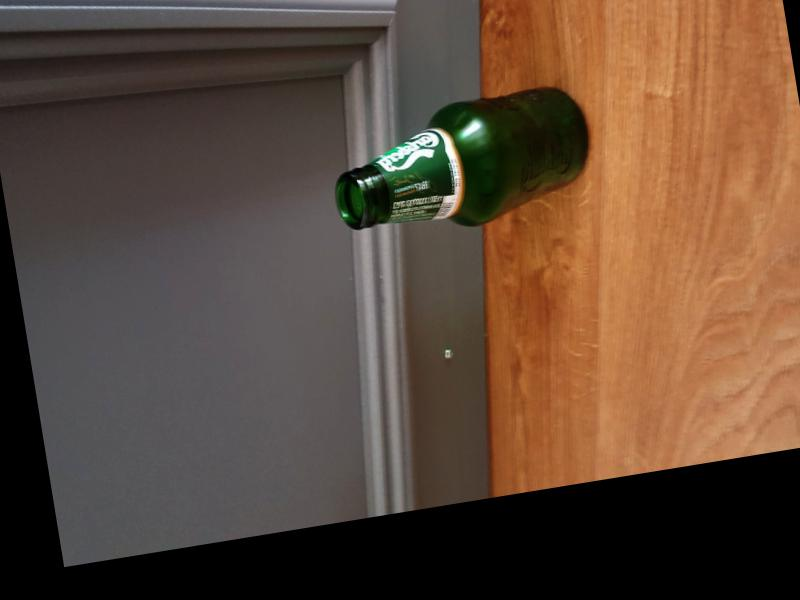Beer: (324, 80, 600, 248)
